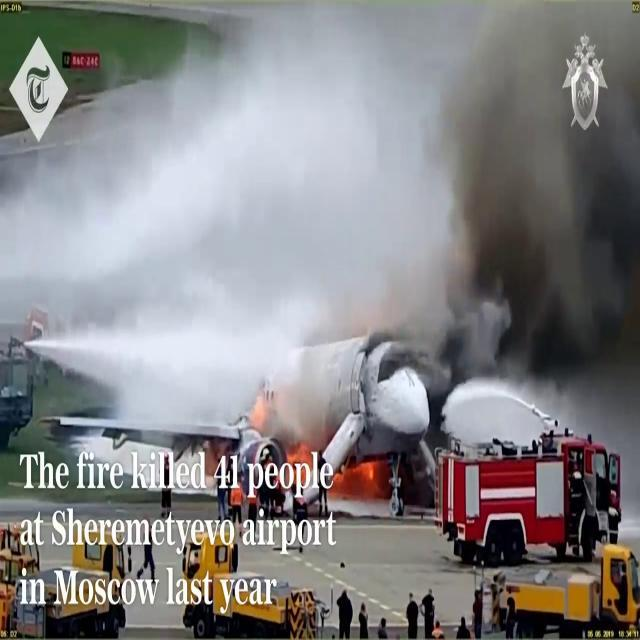Smoke: (2, 12, 640, 432)
